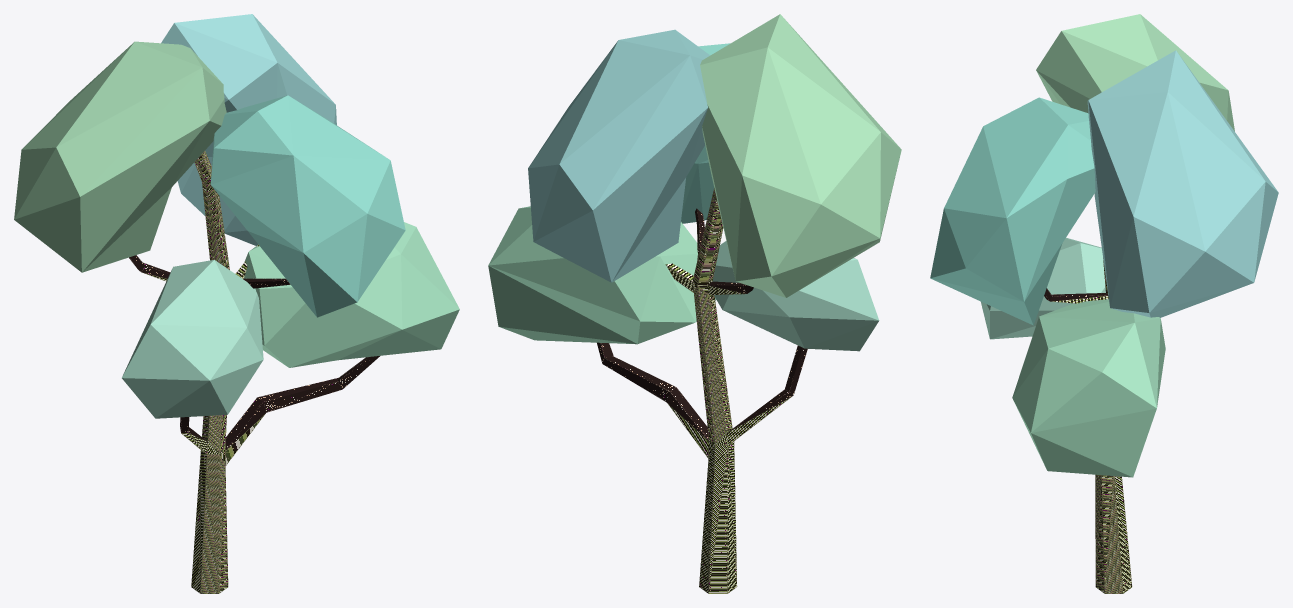
Rendered from LPTree_Tree_Type4_03_Model_instanced_l1_superhigh.glb.
3 renders of one model, left to right at view 1: azimuth 30°, elevation 25°; view 2: azimuth 150°, elevation 25°; view 3: azimuth 270°, elevation 25°, orthographic. The views are drawn at different scales.
Visible parts, largest first — view 1: Tree Type4 03 Model; view 2: Tree Type4 03 Model; view 3: Tree Type4 03 Model.
Boxes of the visible parts, x1,y1,x2,y2 form: Tree Type4 03 Model: [14, 14, 459, 593]; Tree Type4 03 Model: [488, 14, 901, 593]; Tree Type4 03 Model: [930, 14, 1278, 593].
Bounding box in the file's own units: 3.33 × 4.55 × 2.65.
6 materials, 1 textured.
